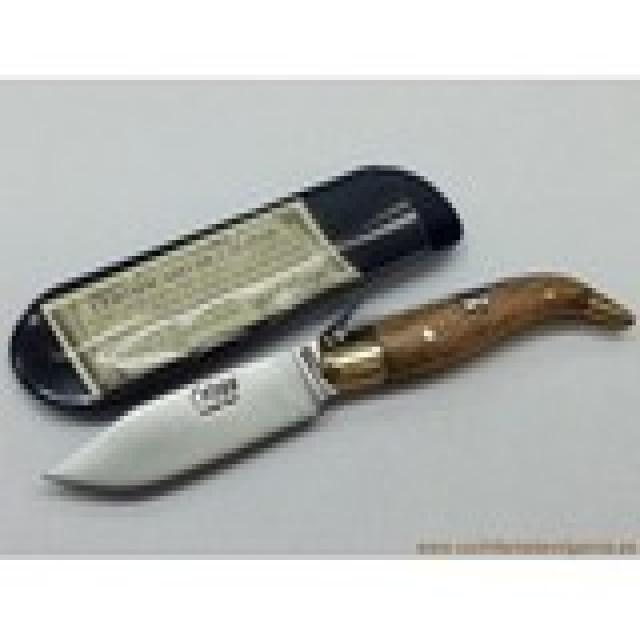Knife: (42, 256, 634, 542)
